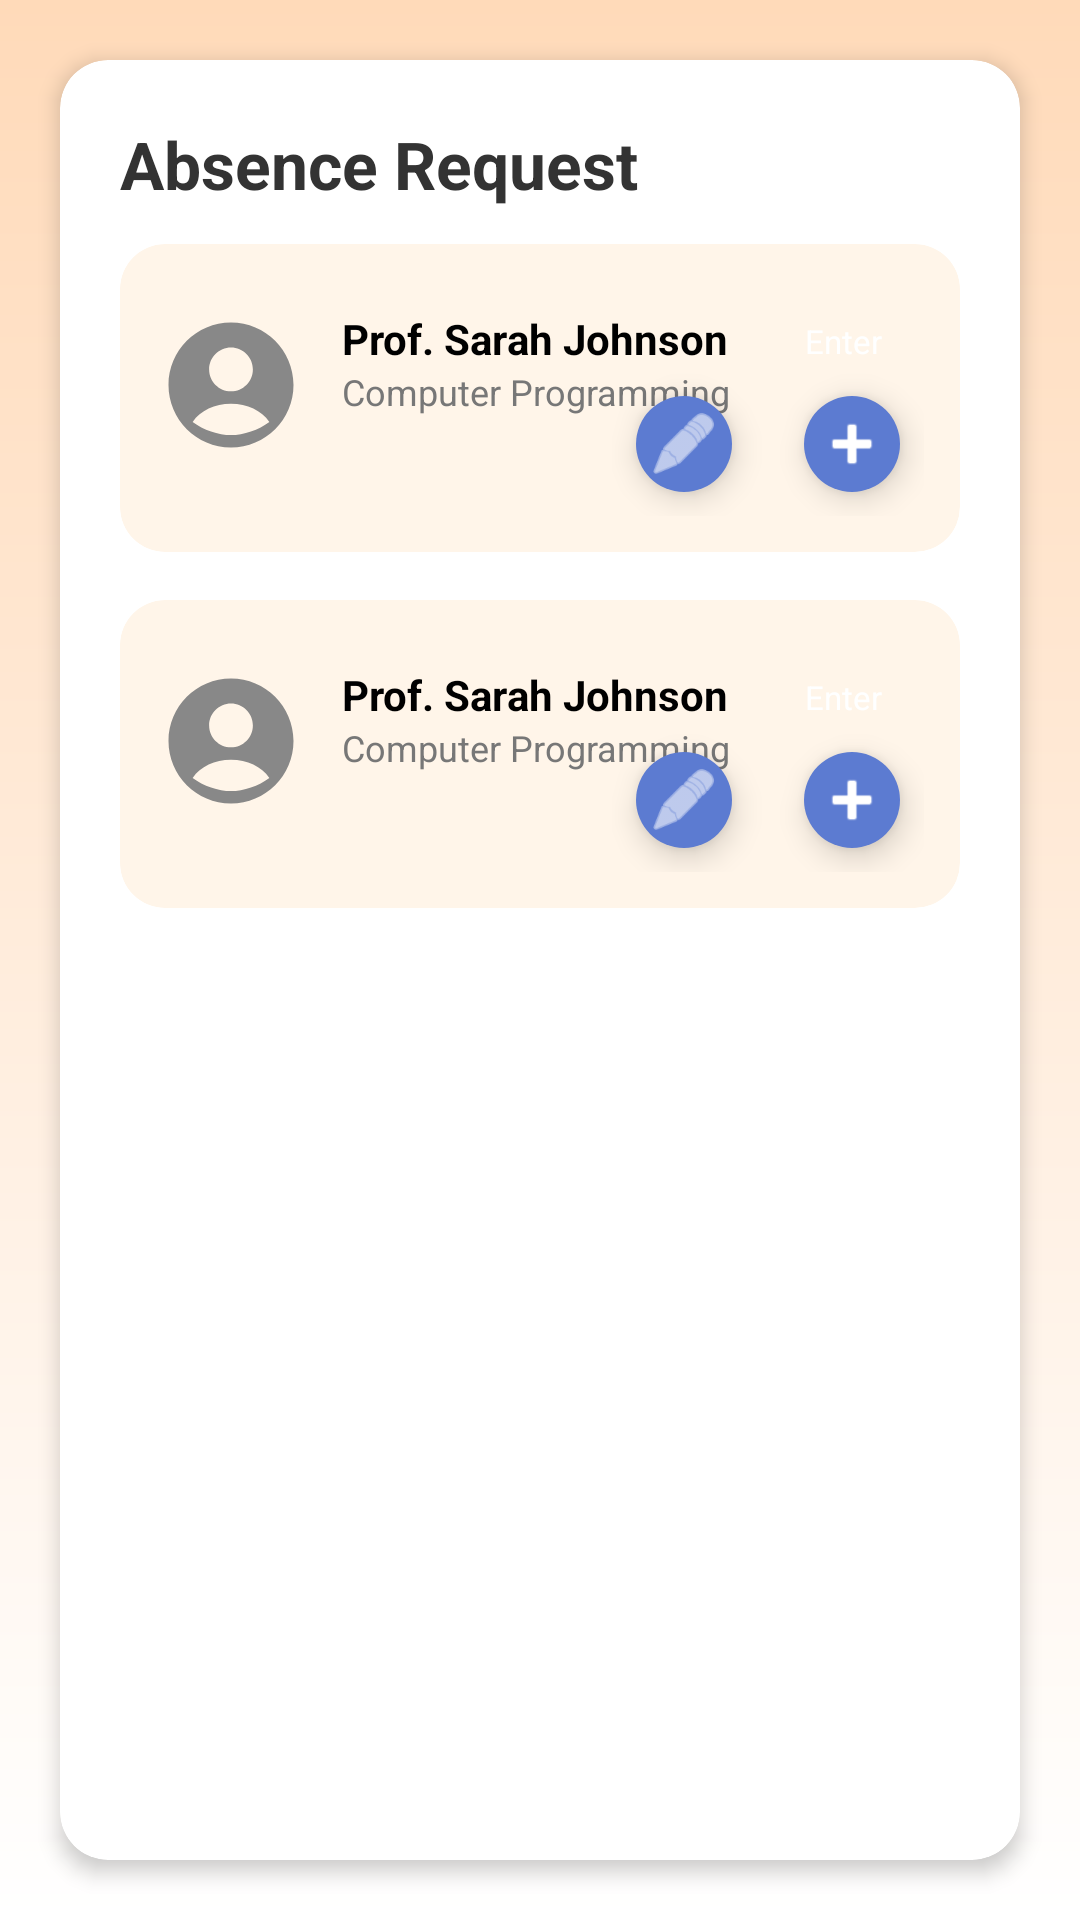

Where icons sit on this 1080px x 1920px app screen, as (x1, y1, x2, y2):
add: (804, 396, 902, 495), (804, 752, 902, 853)
edit: (619, 380, 733, 495), (619, 736, 733, 853)
